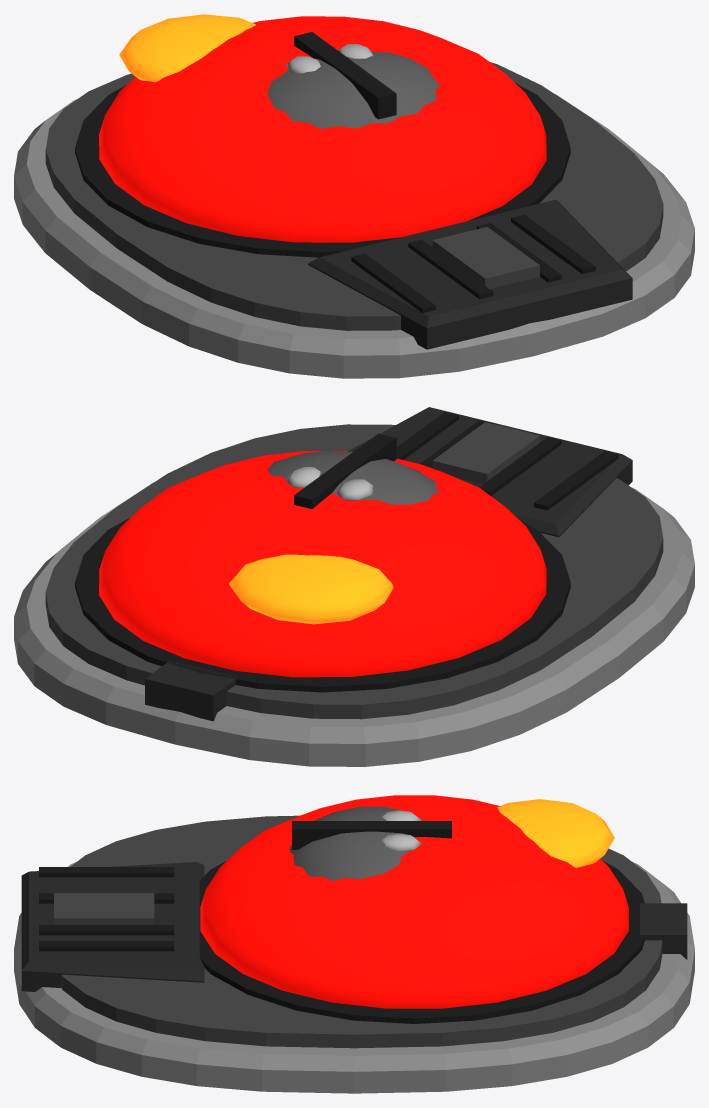
File: newshs-269.glb
The picture shows the model from 3 angles, top to bottom: view 1: azimuth 30°, elevation 25°; view 2: azimuth 150°, elevation 25°; view 3: azimuth 270°, elevation 25°; orthographic projection. The views are drawn at different scales.
Visible parts, largest first — view 1: newshs-269; view 2: newshs-269; view 3: newshs-269.
Boxes of the visible parts, x1,y1,x2,y2 form: newshs-269: (14, 14, 694, 378); newshs-269: (14, 407, 694, 766); newshs-269: (14, 795, 694, 1093).
Size of the model in its own units: 1.93 by 0.535 by 2.27.
